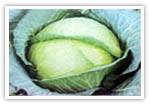cabbage: (7, 8, 142, 96)
